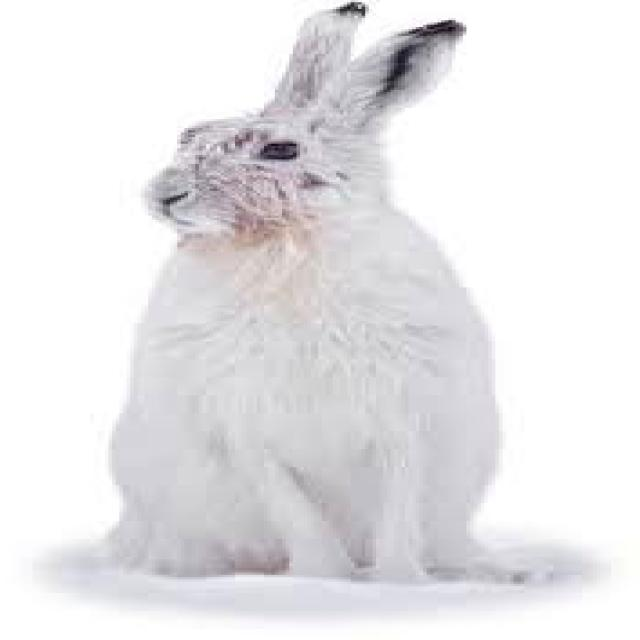hare: (112, 2, 499, 577)
